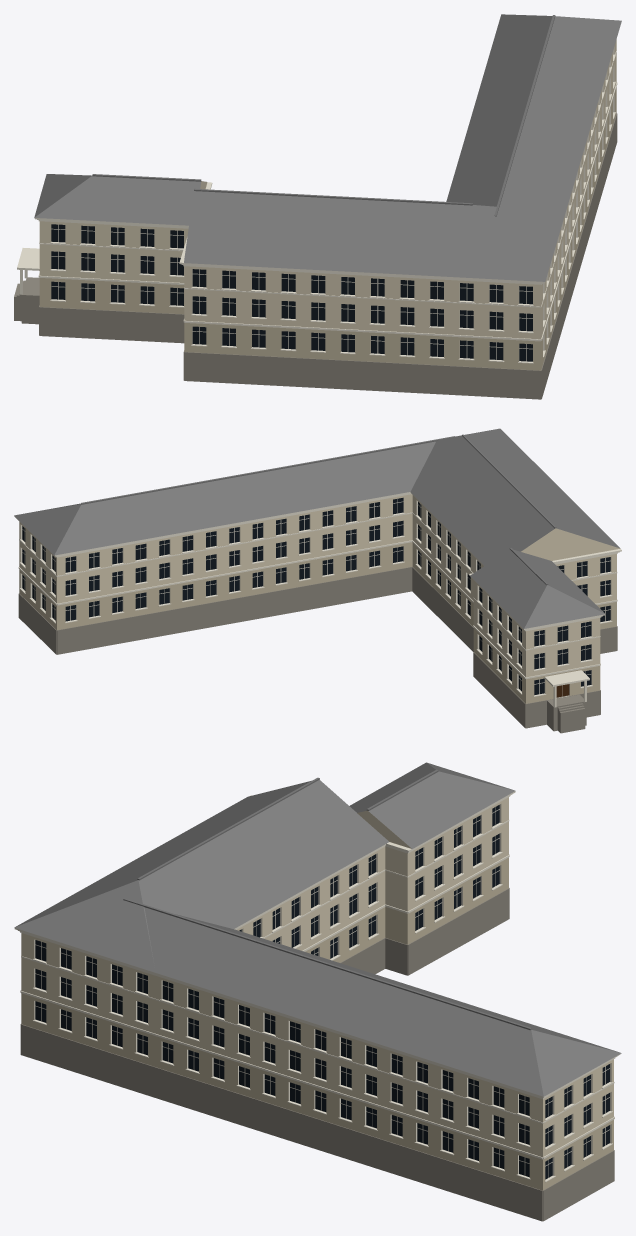
File: odesskaya5.glb
3 renders of one model, top to bottom at view 1: azimuth 30°, elevation 25°; view 2: azimuth 150°, elevation 25°; view 3: azimuth 270°, elevation 25°, orthographic. The views are drawn at different scales.
Visible parts, largest first — view 1: odesskaya5_roof, odesskaya5_wall, odesskaya5_stone, odesskaya5_glass, odesskaya5_trim, odesskaya5_wall2; view 2: odesskaya5_roof, odesskaya5_wall, odesskaya5_stone, odesskaya5_trim, odesskaya5_glass, odesskaya5_wall2; view 3: odesskaya5_roof, odesskaya5_wall, odesskaya5_stone, odesskaya5_glass, odesskaya5_wall2, odesskaya5_trim.
Boxes of the visible parts, <box> form: odesskaya5_roof: <box>34,14,621,281</box>; odesskaya5_wall: <box>39,39,616,339</box>; odesskaya5_stone: <box>14,113,617,399</box>; odesskaya5_glass: <box>51,224,532,361</box>; odesskaya5_trim: <box>17,46,617,363</box>; odesskaya5_wall2: <box>39,87,616,370</box>; odesskaya5_roof: <box>14,428,620,628</box>; odesskaya5_wall: <box>19,494,619,677</box>; odesskaya5_stone: <box>18,566,617,733</box>; odesskaya5_trim: <box>14,492,621,707</box>; odesskaya5_glass: <box>22,498,610,694</box>; odesskaya5_wall2: <box>19,542,616,703</box>; odesskaya5_roof: <box>14,762,621,1096</box>; odesskaya5_wall: <box>21,797,613,1157</box>; odesskaya5_stone: <box>20,888,614,1221</box>; odesskaya5_glass: <box>35,805,609,1179</box>; odesskaya5_wall2: <box>21,857,613,1190</box>; odesskaya5_trim: <box>14,791,620,1182</box>.
Size of the model in its own units: 84.34 by 19.87 by 64.81.
